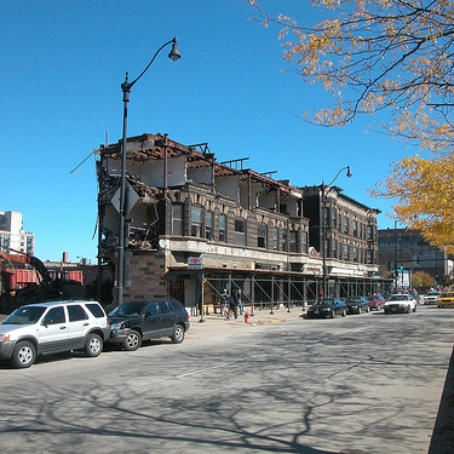building: (89, 132, 384, 317)
car: (1, 299, 110, 363), (106, 294, 188, 358), (299, 298, 348, 320), (374, 293, 419, 315)
light pole: (123, 35, 178, 371)
sky: (1, 1, 361, 172)
street: (1, 314, 454, 454)
tree: (282, 1, 454, 133), (378, 149, 454, 258)
